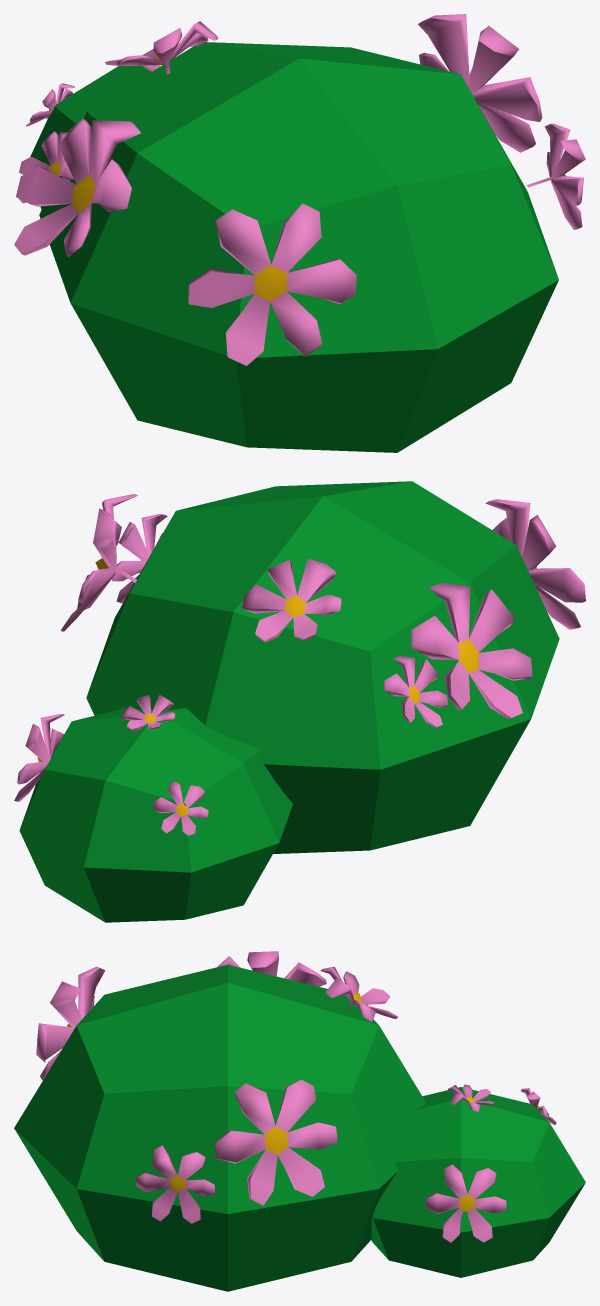
Rendered from Bushonly.fbx.
3 views of the same model, one above another, from view 1: azimuth 30°, elevation 25°; view 2: azimuth 150°, elevation 25°; view 3: azimuth 270°, elevation 25° (orthographic). The views are drawn at different scales.
Visible parts, largest first — view 1: bush:pPlatonic1, bush:mesh32, bush:flower:mesh25, bush:mesh29, pPlatonic1, bush:mesh30, bush:mesh27, bush:mesh25, bush:mesh26; view 2: bush:pPlatonic1, pPlatonic1, pPlatonic16, bush:flower:mesh25, bush:mesh27, bush:mesh32, bush:mesh29, bush:mesh25, bush:mesh30, bush:mesh31, bush:mesh26, bush:mesh28; view 3: bush:pPlatonic1, pPlatonic16, bush:mesh29, bush:mesh31, bush:mesh30, bush:mesh32, bush:mesh27, pPlatonic1, bush:flower:mesh25, bush:mesh28.
Boxes of the visible parts, x1=… form: bush:pPlatonic1: x1=39, y1=42, x2=558, y2=452; bush:mesh32: x1=188, y1=203, x2=356, y2=365; bush:flower:mesh25: x1=14, y1=118, x2=140, y2=256; bush:mesh29: x1=418, y1=14, x2=542, y2=152; pPlatonic1: x1=30, y1=66, x2=151, y2=209; bush:mesh30: x1=526, y1=123, x2=585, y2=229; bush:mesh27: x1=105, y1=21, x2=218, y2=74; bush:mesh25: x1=19, y1=131, x2=73, y2=203; bush:mesh26: x1=26, y1=83, x2=74, y2=126; bush:pPlatonic1: x1=86, y1=481, x2=559, y2=853; pPlatonic1: x1=20, y1=708, x2=292, y2=922; pPlatonic16: x1=19, y1=708, x2=247, y2=922; bush:flower:mesh25: x1=411, y1=583, x2=532, y2=718; bush:mesh27: x1=242, y1=558, x2=341, y2=642; bush:mesh32: x1=485, y1=499, x2=585, y2=629; bush:mesh29: x1=60, y1=494, x2=137, y2=631; bush:mesh25: x1=384, y1=656, x2=447, y2=727; bush:mesh30: x1=111, y1=514, x2=167, y2=603; bush:mesh31: x1=14, y1=714, x2=64, y2=801; bush:mesh26: x1=153, y1=781, x2=208, y2=835; bush:mesh28: x1=121, y1=694, x2=175, y2=730; bush:pPlatonic1: x1=14, y1=964, x2=426, y2=1291; pPlatonic16: x1=371, y1=1099, x2=585, y2=1277; bush:mesh29: x1=214, y1=1079, x2=338, y2=1205; bush:mesh31: x1=425, y1=1164, x2=506, y2=1242; bush:mesh30: x1=136, y1=1145, x2=215, y2=1223; bush:mesh32: x1=36, y1=966, x2=105, y2=1080; bush:mesh27: x1=320, y1=967, x2=398, y2=1022; pPlatonic1: x1=414, y1=1087, x2=548, y2=1159; bush:flower:mesh25: x1=217, y1=951, x2=326, y2=986; bush:mesh28: x1=448, y1=1084, x2=494, y2=1111.
Bounding box in the file's own units: 90.47 × 65.26 × 116.
